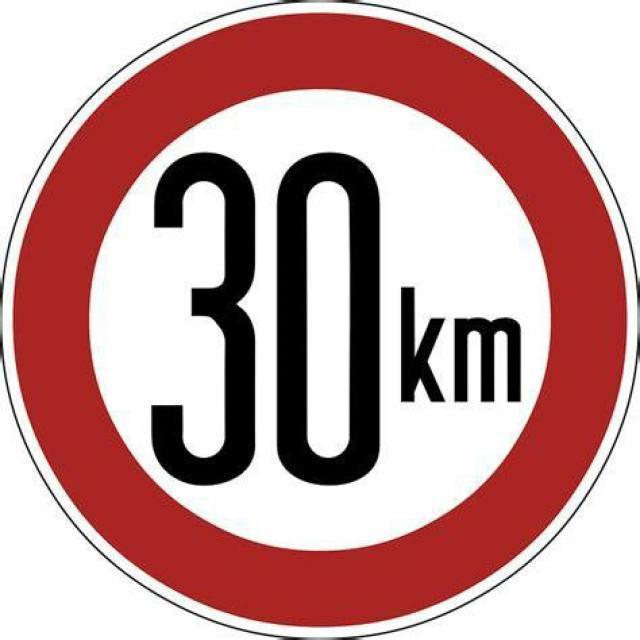speed limit 30: (17, 20, 626, 619)
